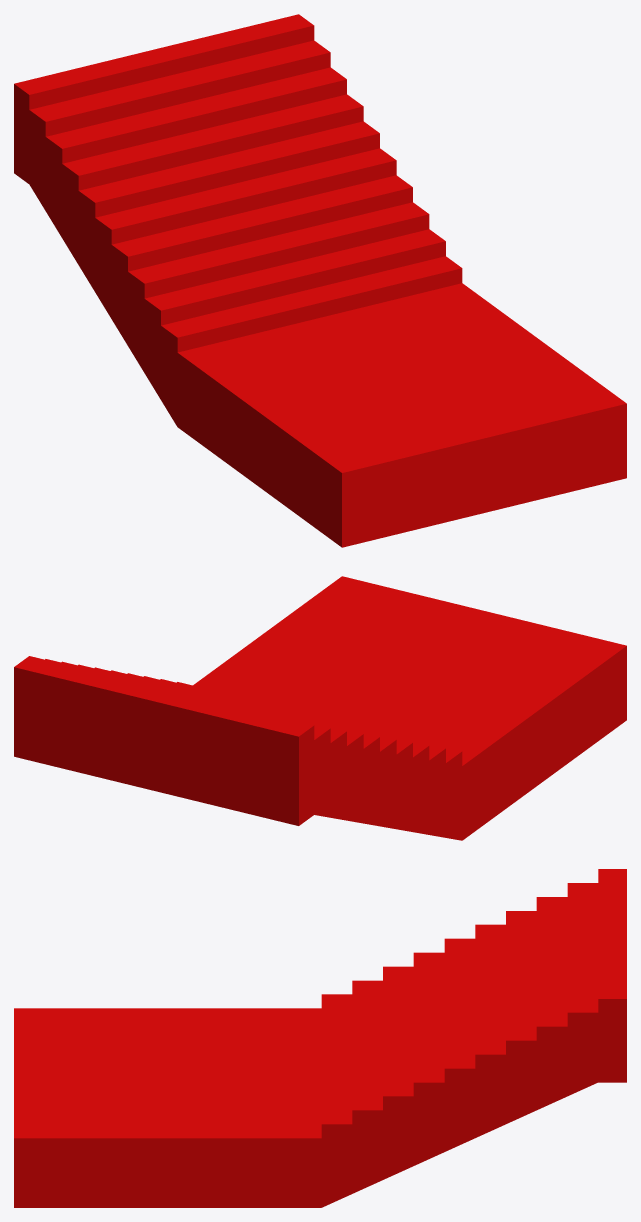
The model's file is SM_StairsUpperCollider.fbx.
3 views of the same model, one above another, from view 1: azimuth 30°, elevation 25°; view 2: azimuth 150°, elevation 25°; view 3: azimuth 270°, elevation 25° (orthographic). The views are drawn at different scales.
Parts seen in each view (by area): view 1: StairsUpperCollision; view 2: StairsUpperCollision; view 3: StairsUpperCollision.
Boxes of the visible parts, box(x1,y1,x2,y2) form: StairsUpperCollision: box(14, 14, 626, 547); StairsUpperCollision: box(14, 576, 626, 840); StairsUpperCollision: box(14, 869, 626, 1207).
Size of the model in its own units: 400 by 300 by 797.
